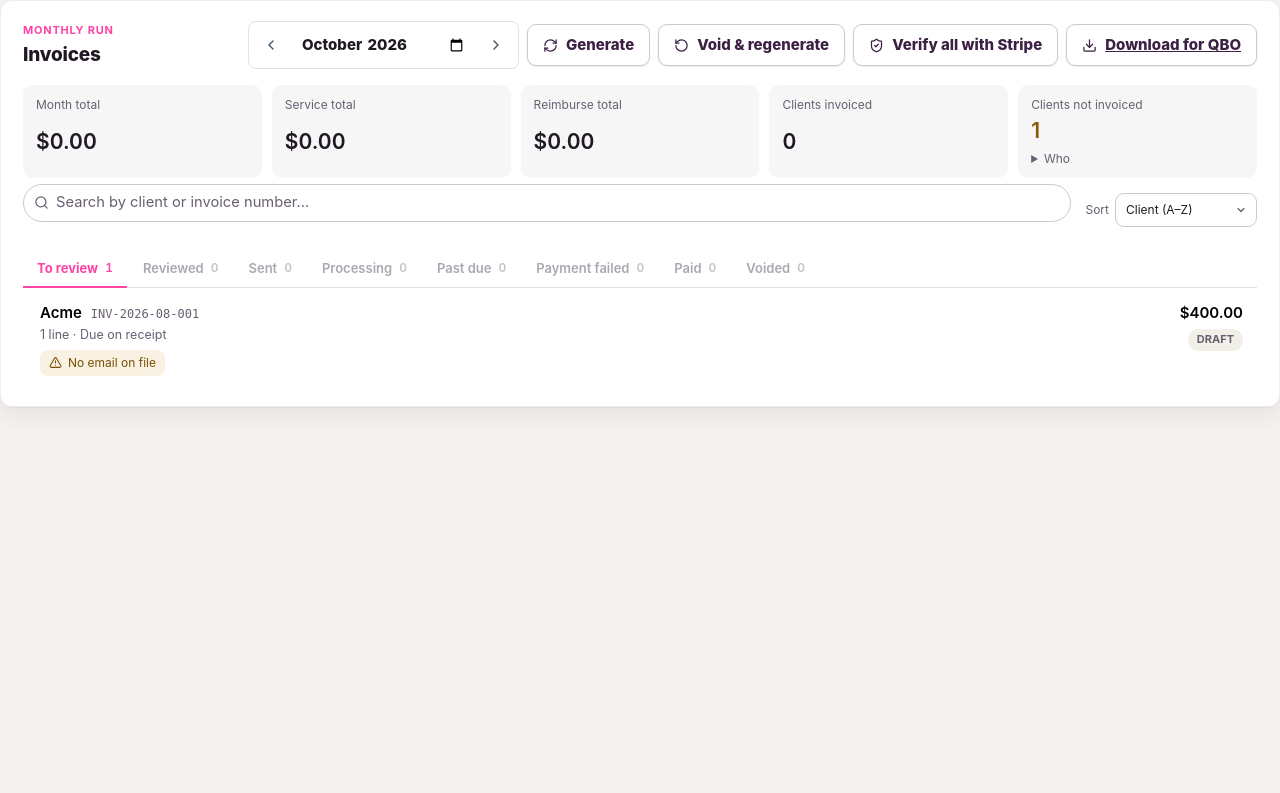
Scenario: InvoiceMonthRun — unsaved edits guard on a month change › answers true and moves when she agrees
Step 1. Click the text "INV-2026-08-001" → (145, 315), box [91, 306, 199, 324]
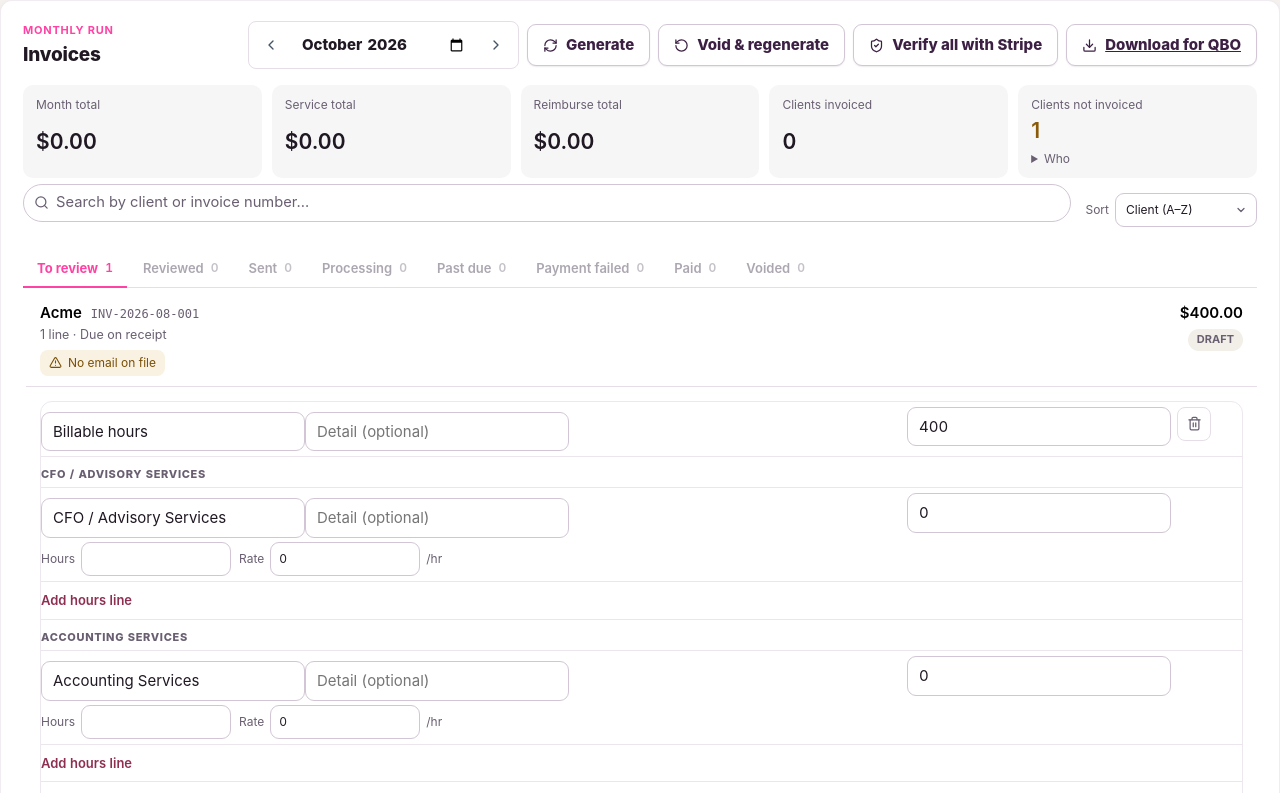
Step 2. Replace the text in the field named "Line description" with "Billable hours — corrected" → (173, 432), box [41, 412, 305, 452]
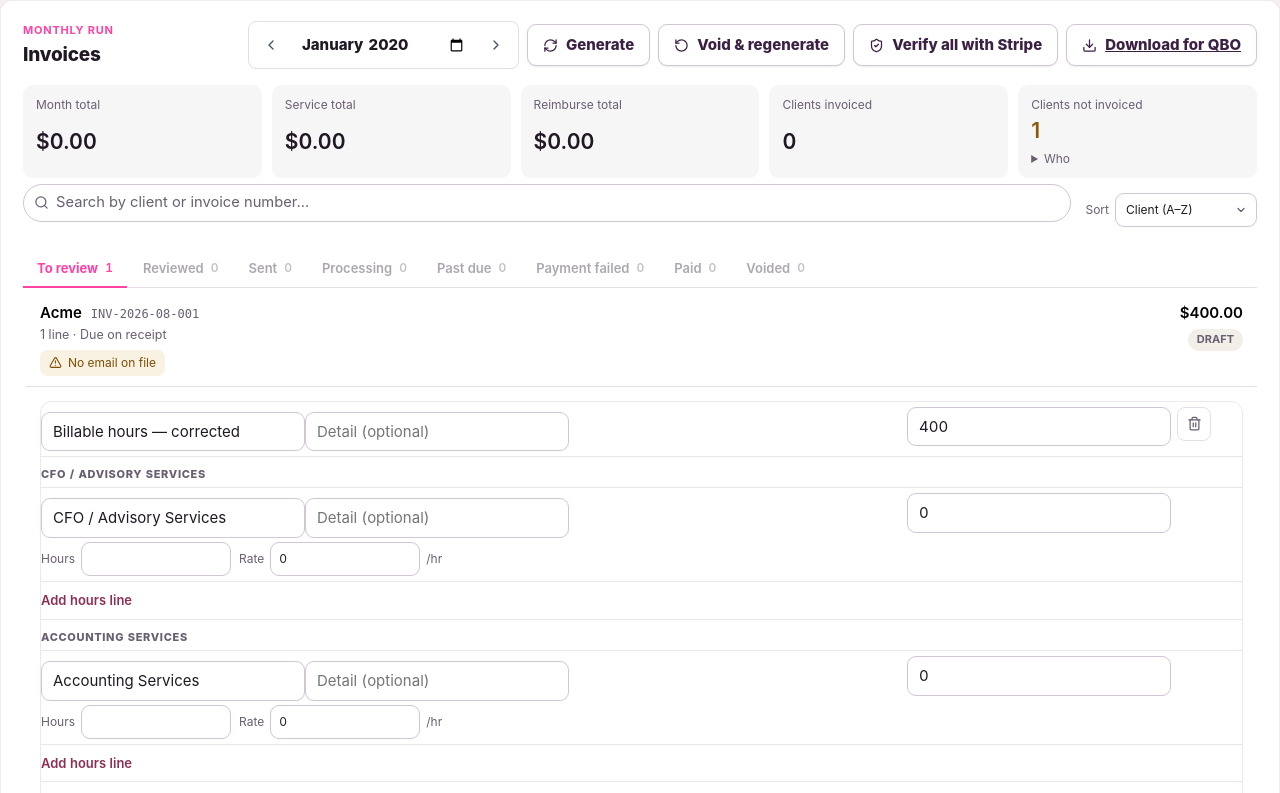
Check: the field named "Billing month" holds "2020-01", box [291, 28, 476, 62]
